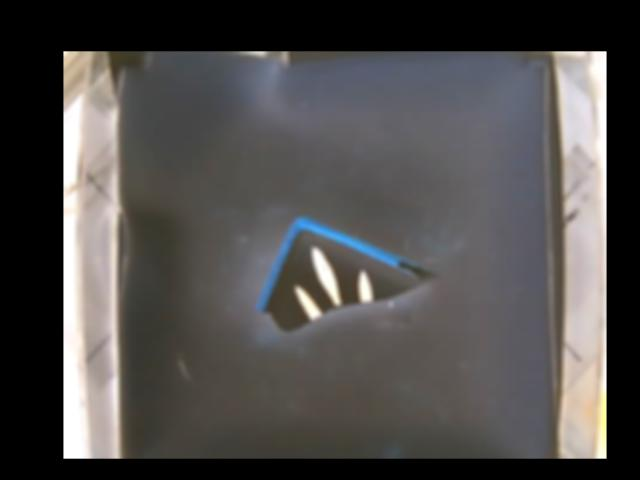China: (257, 216, 438, 331)
